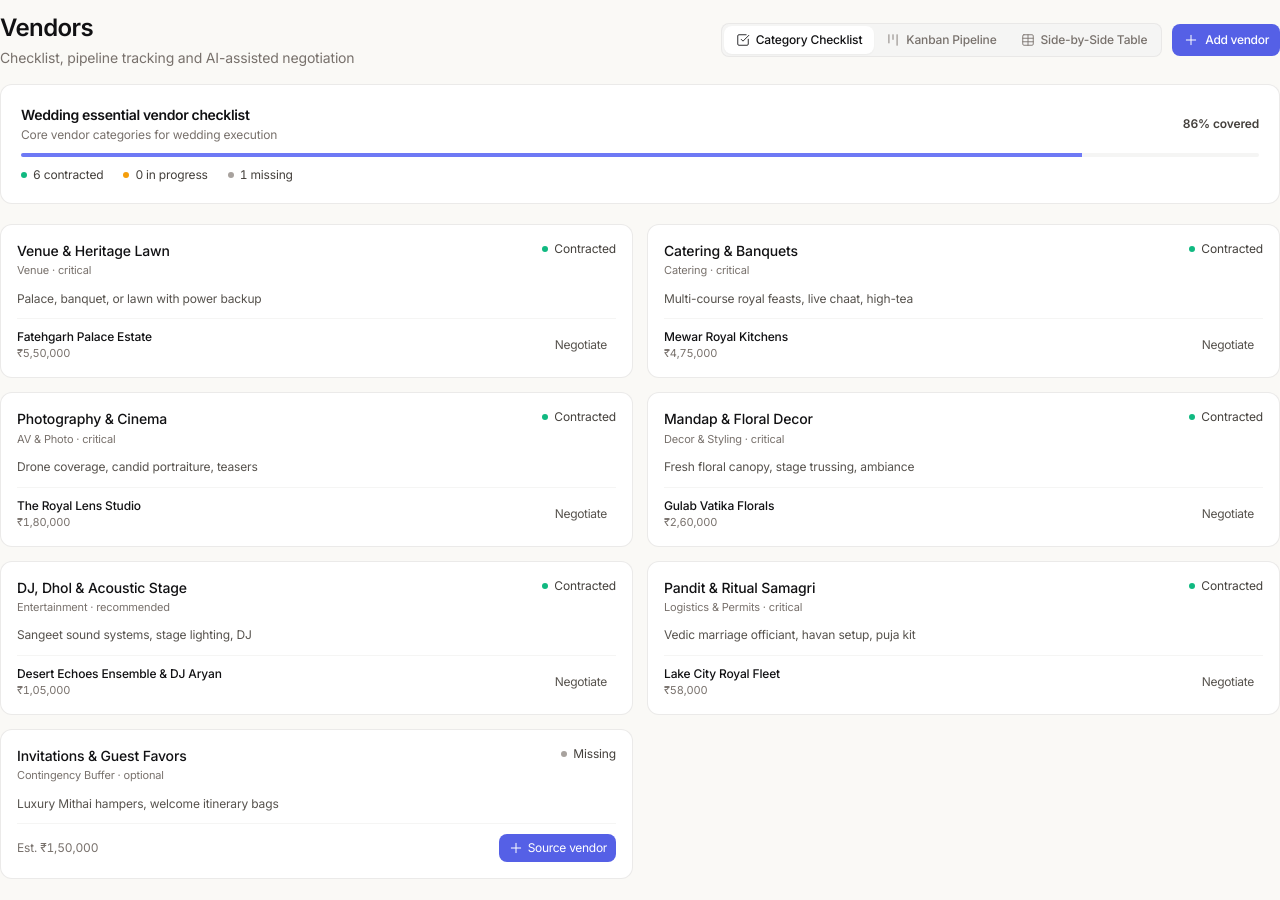
Test case: VendorsTab and TimelineTab Comprehensive Integration › VendorsTab Layout & Interactions › renders category checklist by default and allows switching to kanban and table layouts
// Switch to Kanban Pipeline
Step 1. Click the button "Kanban Pipeline" → [942, 40], box [874,26,1009,54]
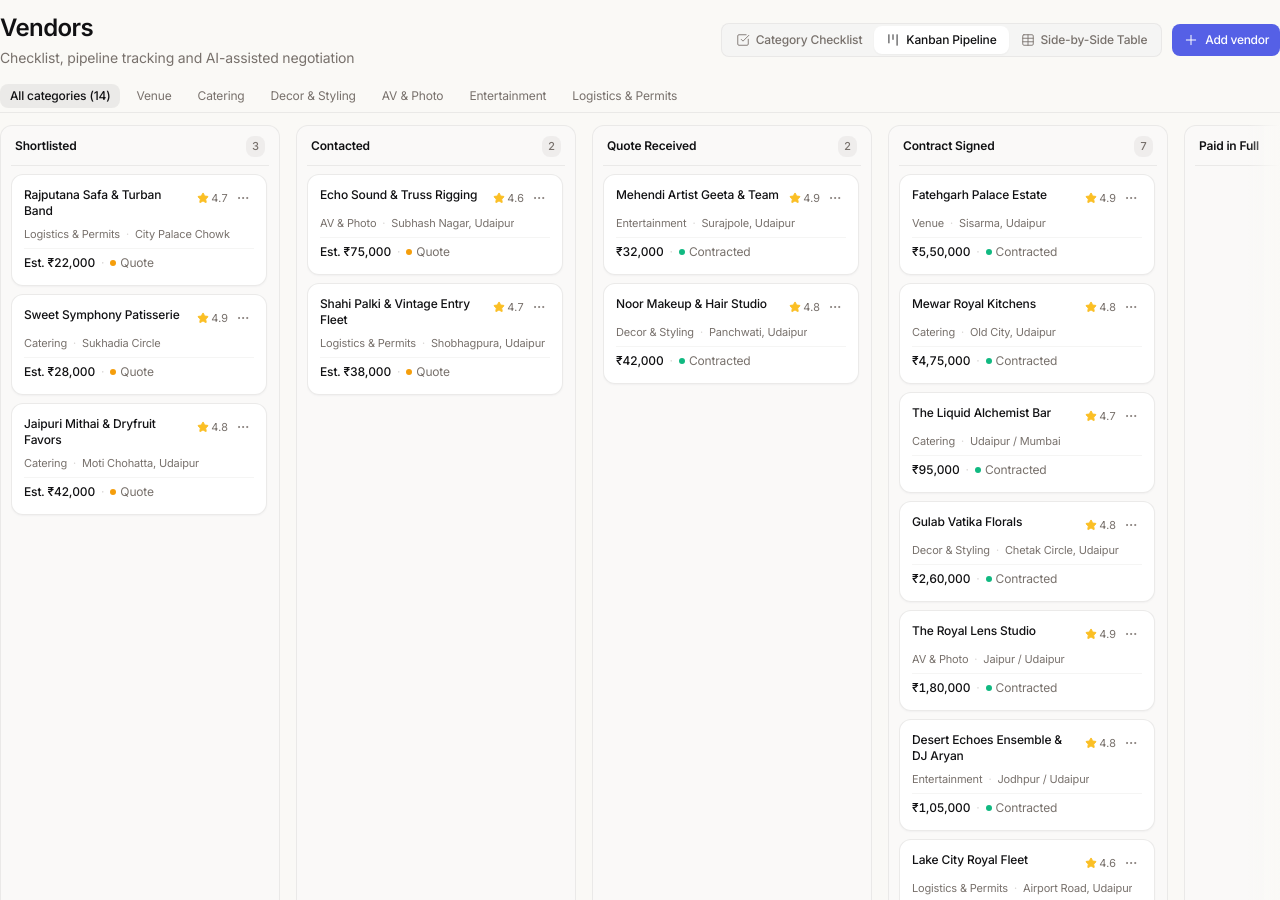
Check: the text "Contract Signed" is shown, box [903,138,994,154]
// Switch to Side-by-Side Table
Step 2. Click the button "Side-by-Side Table" → [1084, 40], box [1008,26,1159,54]
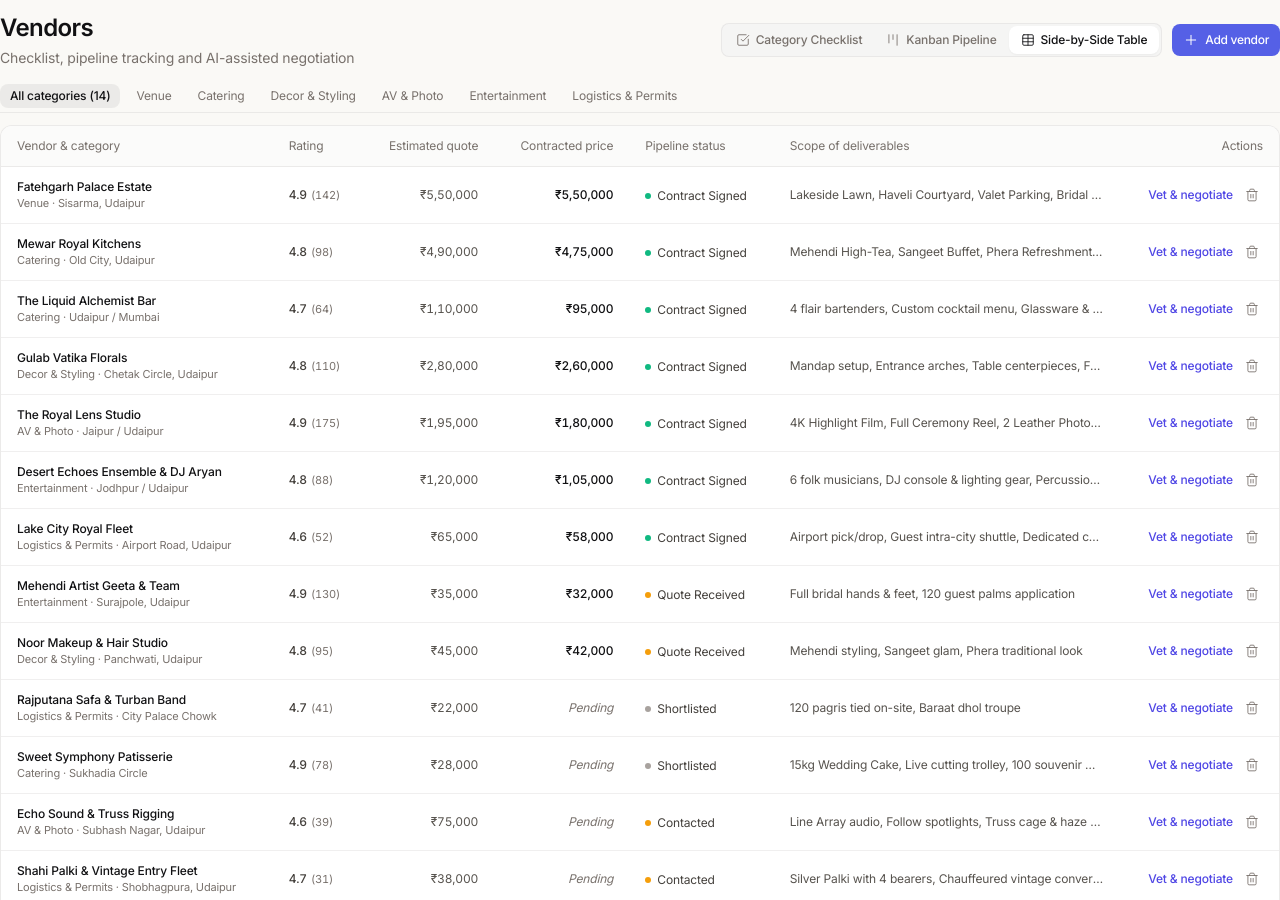
Check: the column heading "Vendor & category" is shown, box [1,126,273,166]
Check: the column heading "Contracted price" is shown, box [494,126,629,166]
